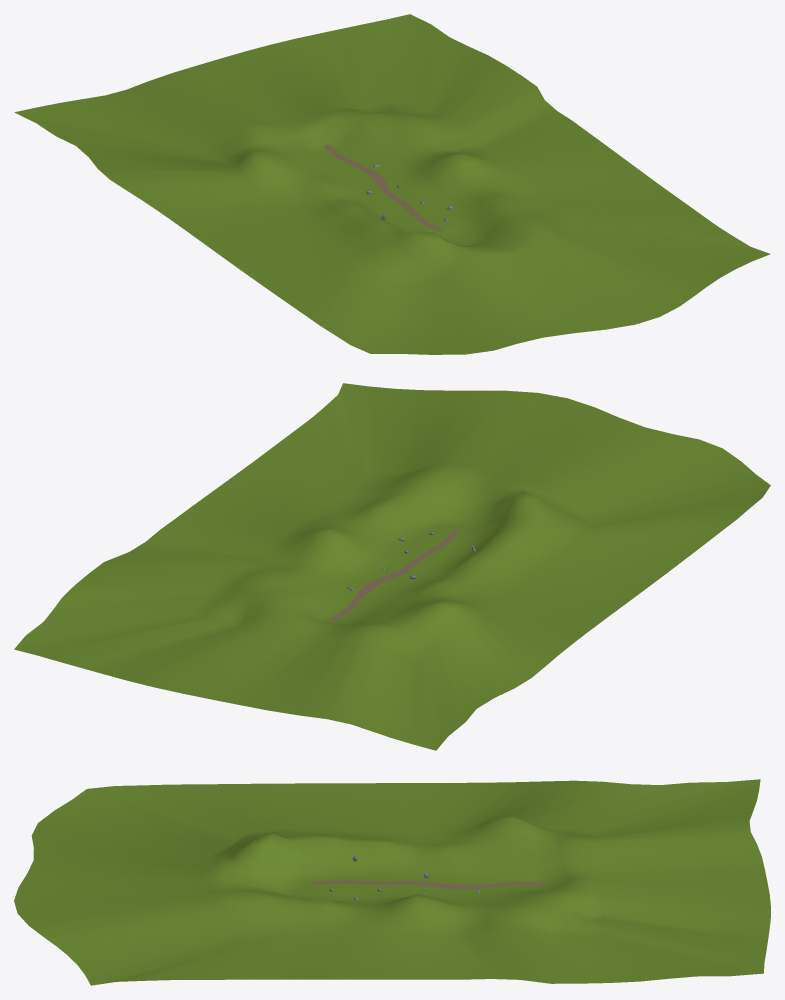
Rendered from pint_terain.glb.
3 views of the same model, one above another, from view 1: azimuth 30°, elevation 25°; view 2: azimuth 150°, elevation 25°; view 3: azimuth 270°, elevation 25° (orthographic). The views are drawn at different scales.
Parts seen in each view (by area): view 1: Gtround, Path; view 2: Gtround, Path; view 3: Gtround, Path.
Boxes of the visible parts, <box> form: Gtround: <box>14,14,770,354</box>; Path: <box>323,144,442,231</box>; Gtround: <box>14,383,770,750</box>; Path: <box>329,530,460,620</box>; Gtround: <box>14,779,770,985</box>; Path: <box>313,880,546,889</box>.
Bounding box in the file's own units: 1115 × 76.48 × 1728.
3 materials, 3 textured.
